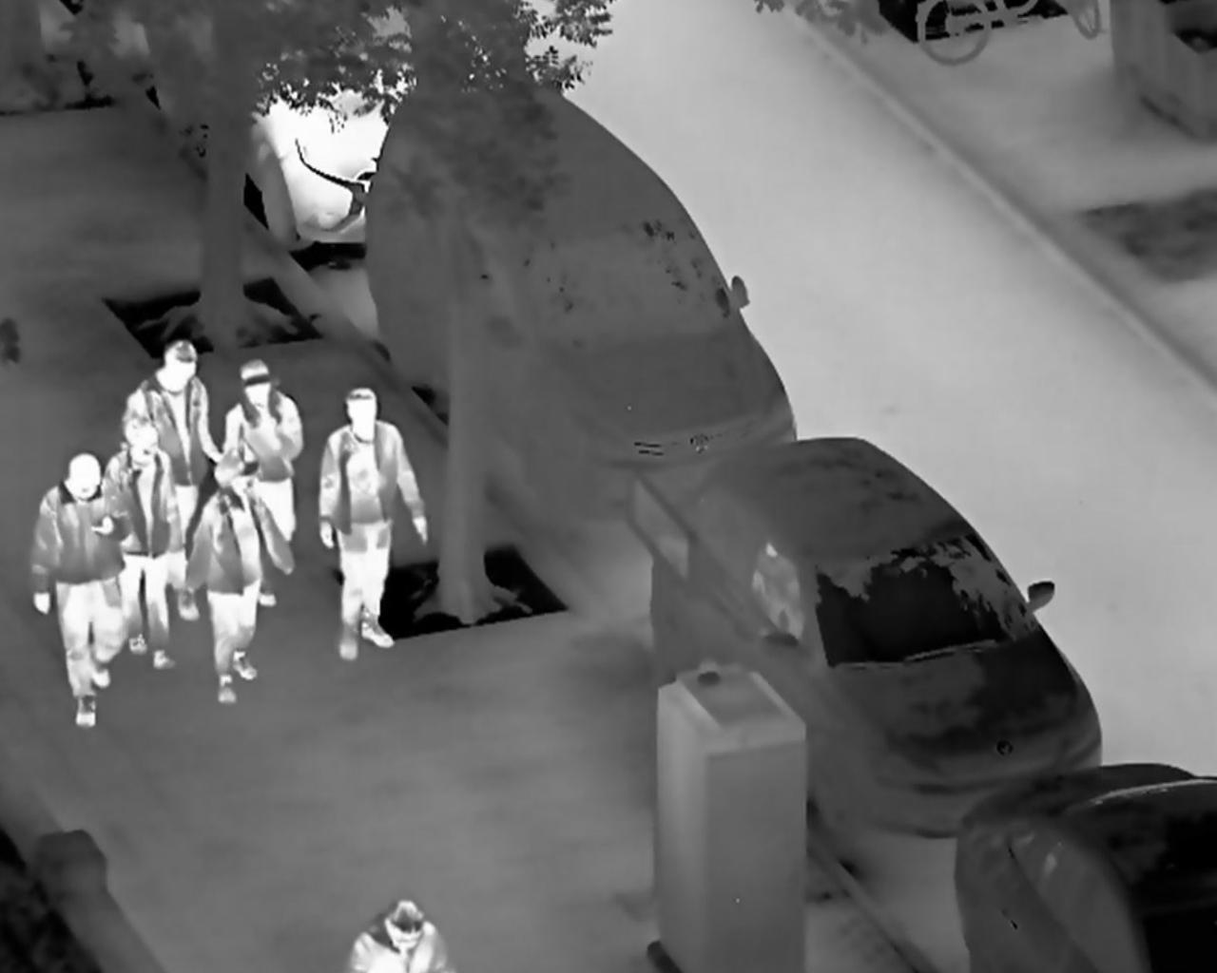person: (318, 385, 432, 663), (188, 451, 301, 709), (28, 450, 132, 730), (120, 338, 225, 547), (101, 422, 186, 667), (220, 358, 303, 546)
